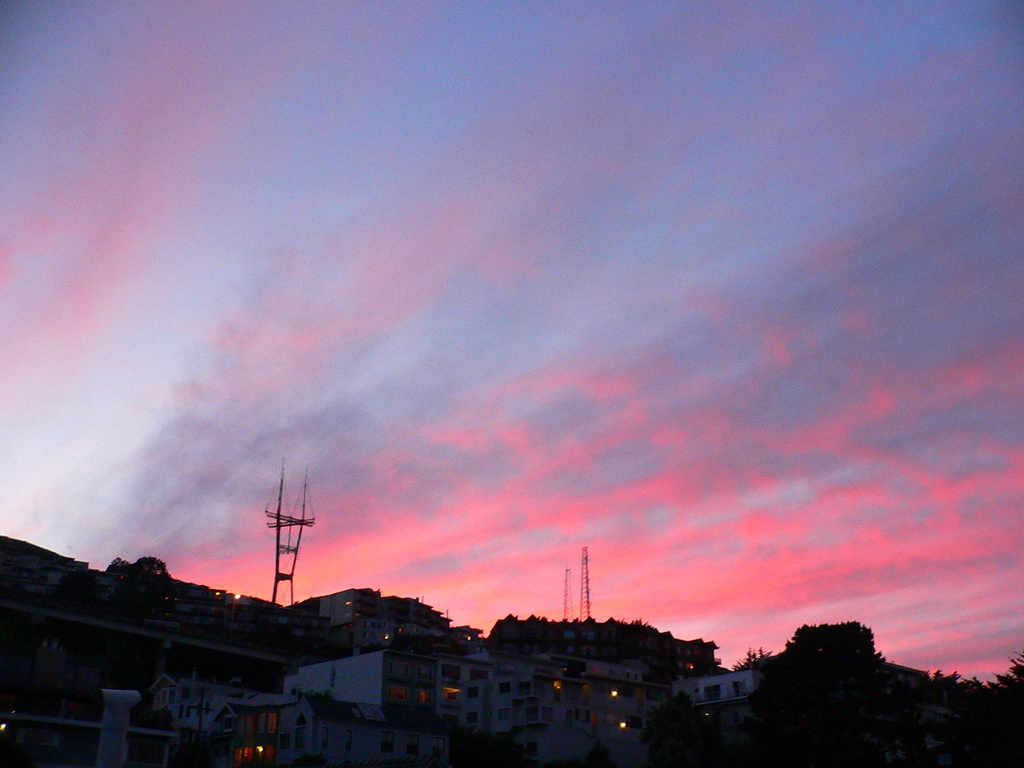Tree: (784, 618, 886, 682), (640, 693, 711, 764), (933, 652, 1023, 696), (731, 645, 769, 672)
